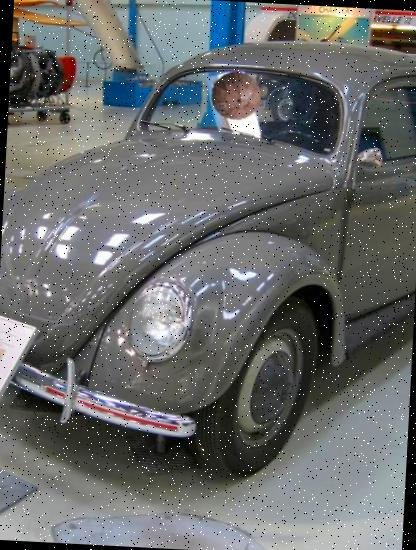Cocos: (208, 67, 266, 125)
